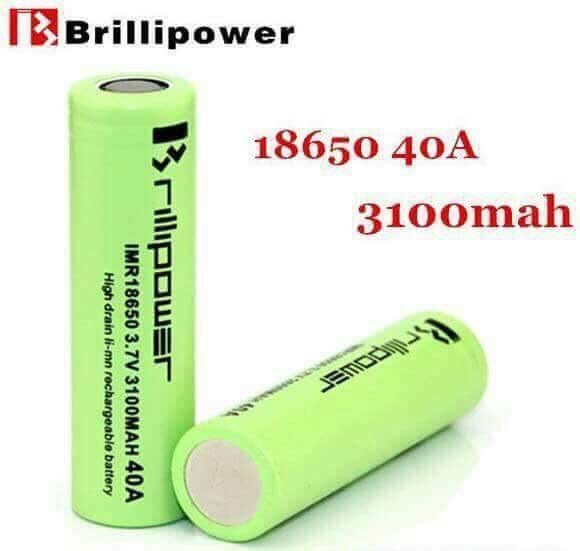Battery: (163, 301, 493, 547), (63, 65, 203, 532)
